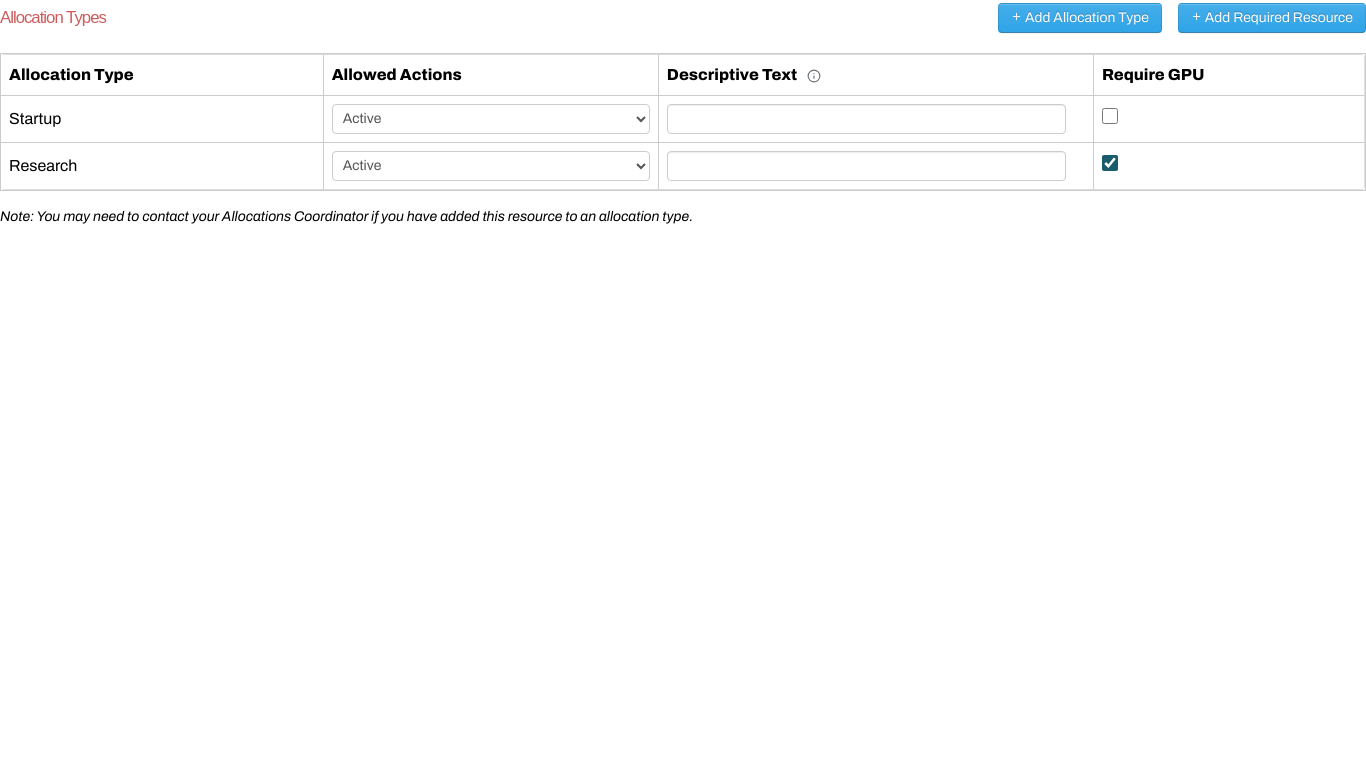
Test: AllocationTypesSection - required resource columns › adds a column required by every allocation type when a resource is checked
The width and height of the screenshot is (1366, 768).
Step 1. Click the button "Add Required Resource" → coordinates (1272, 18), box [1178,3,1365,33]
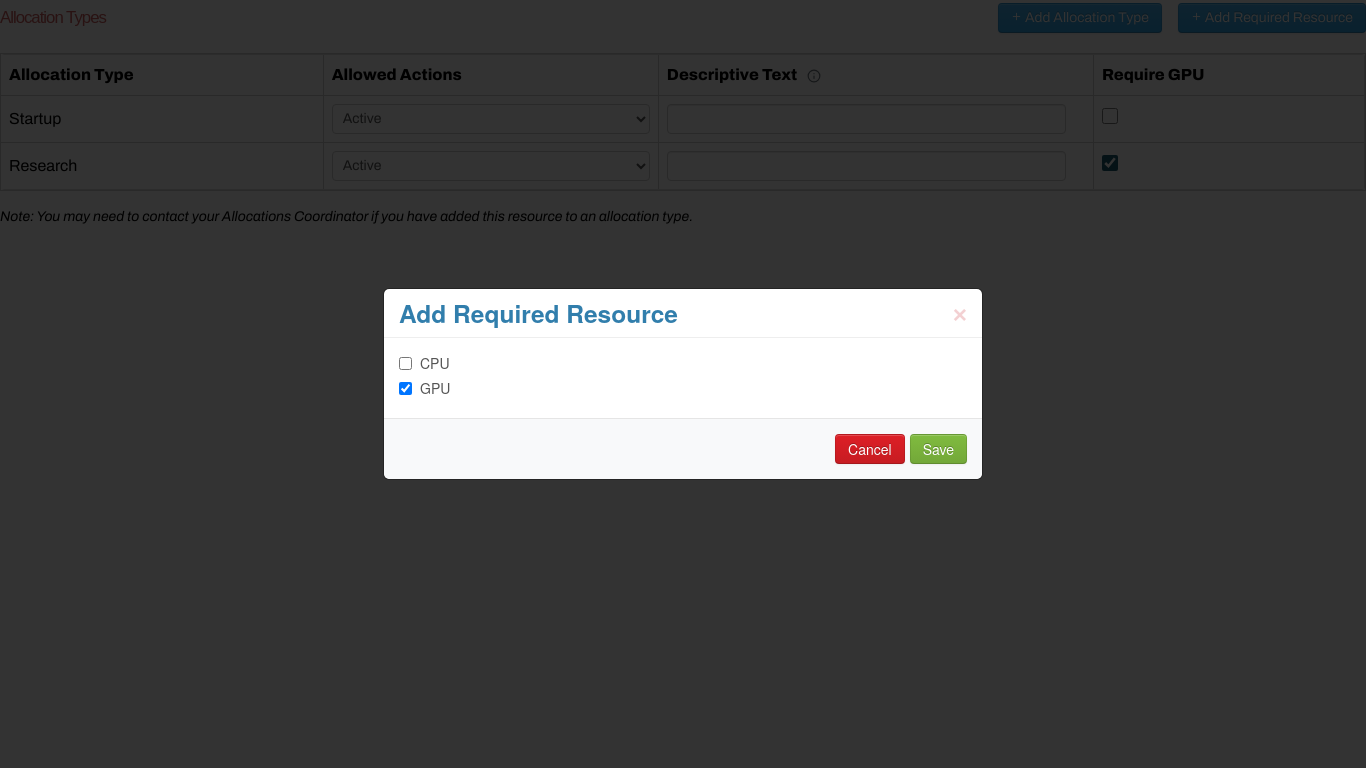
Step 2. Click the checkbox labelled "CPU" → coordinates (406, 363), box [399,356,412,370]
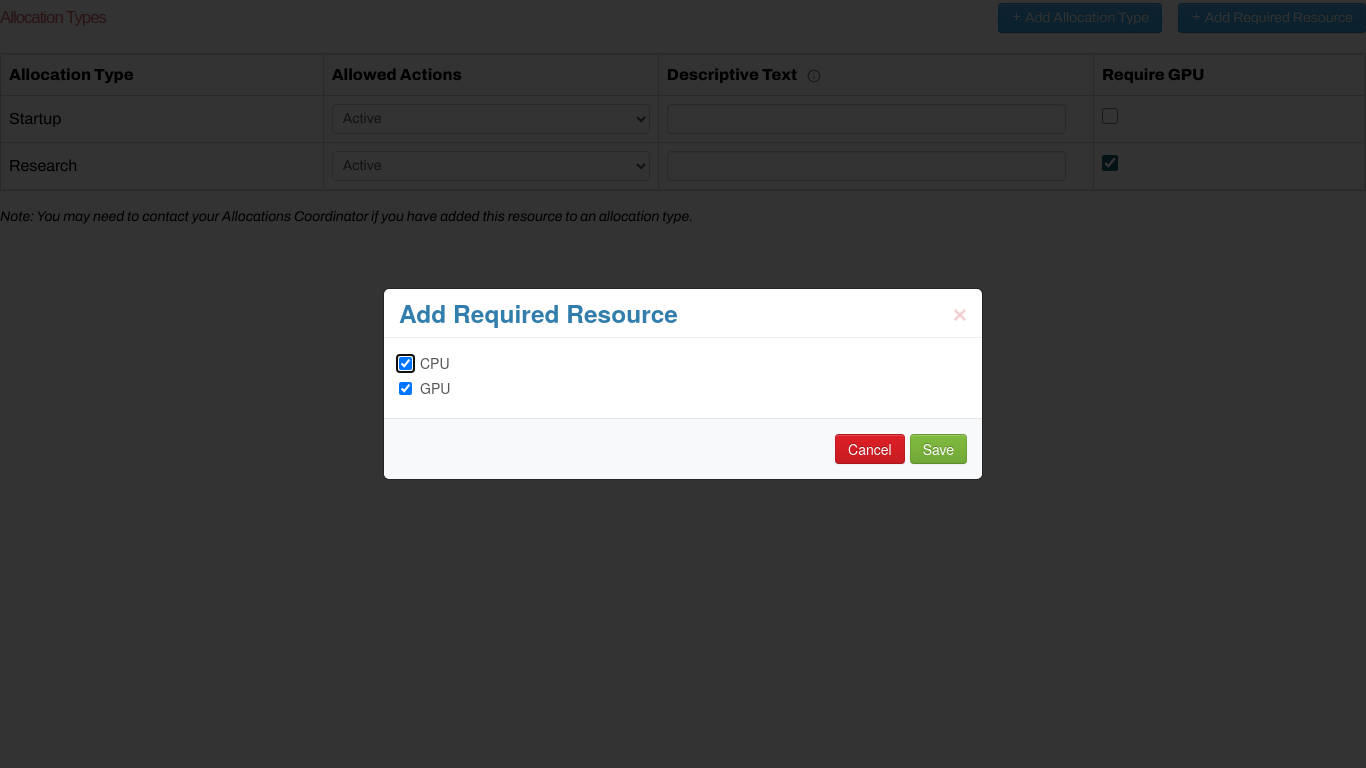
Step 3. Click the button "Save" → coordinates (938, 449), box [910,434,967,464]
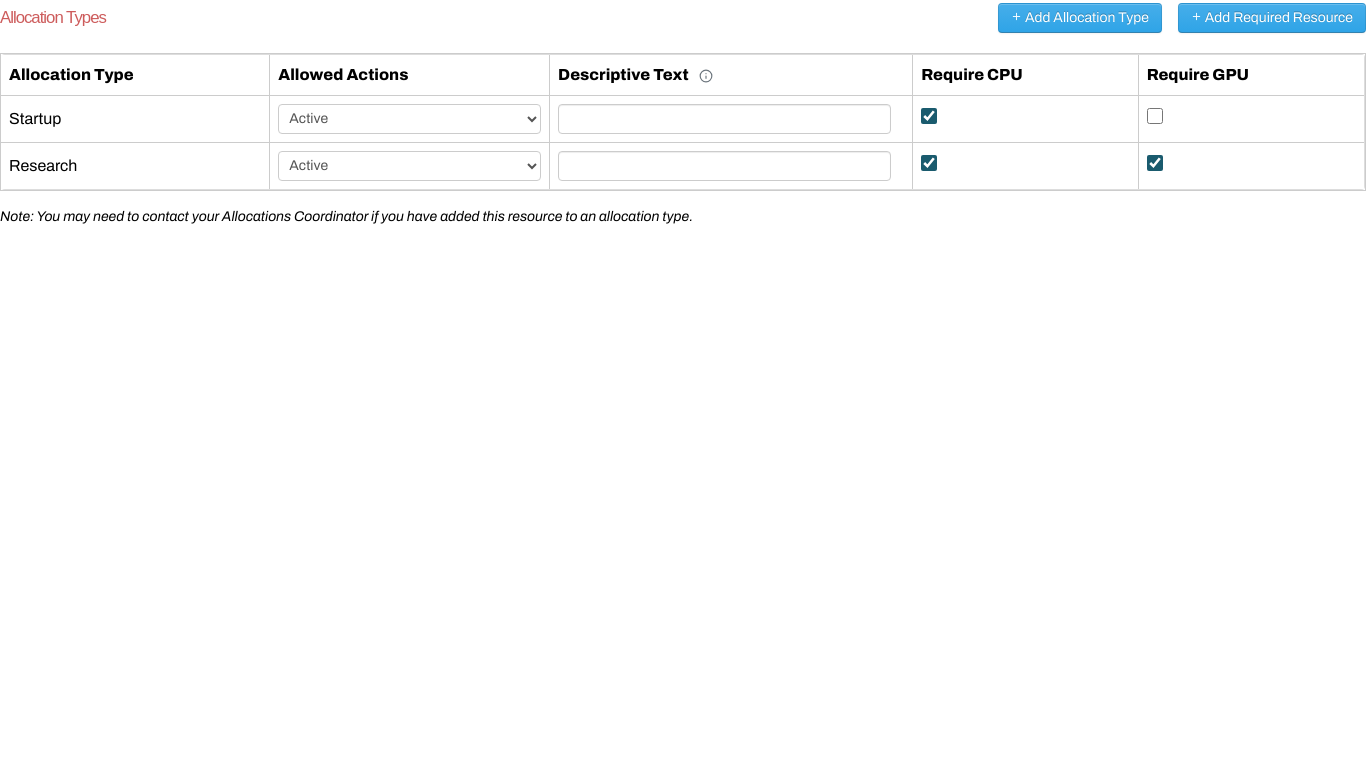
Check: the dialog is gone
Check: the 1st checkbox is checked, box [921,108,937,124]
Check: the 3rd checkbox is checked, box [921,155,937,171]
